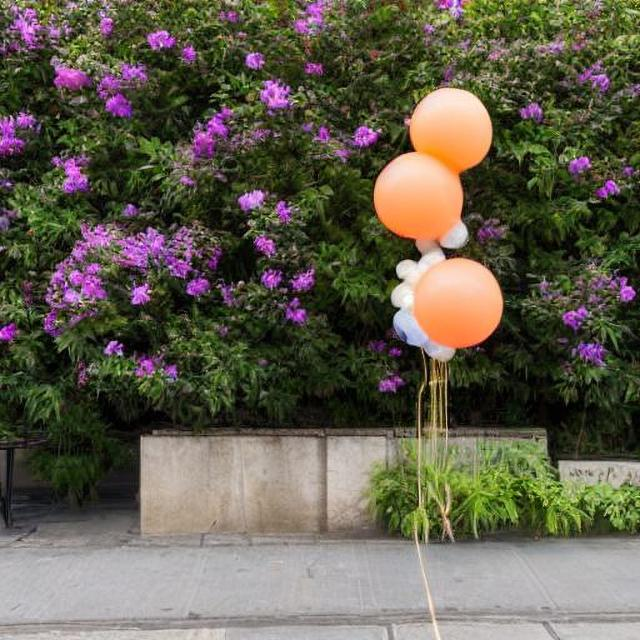balloon: (366, 100, 491, 247), (388, 249, 504, 356)
